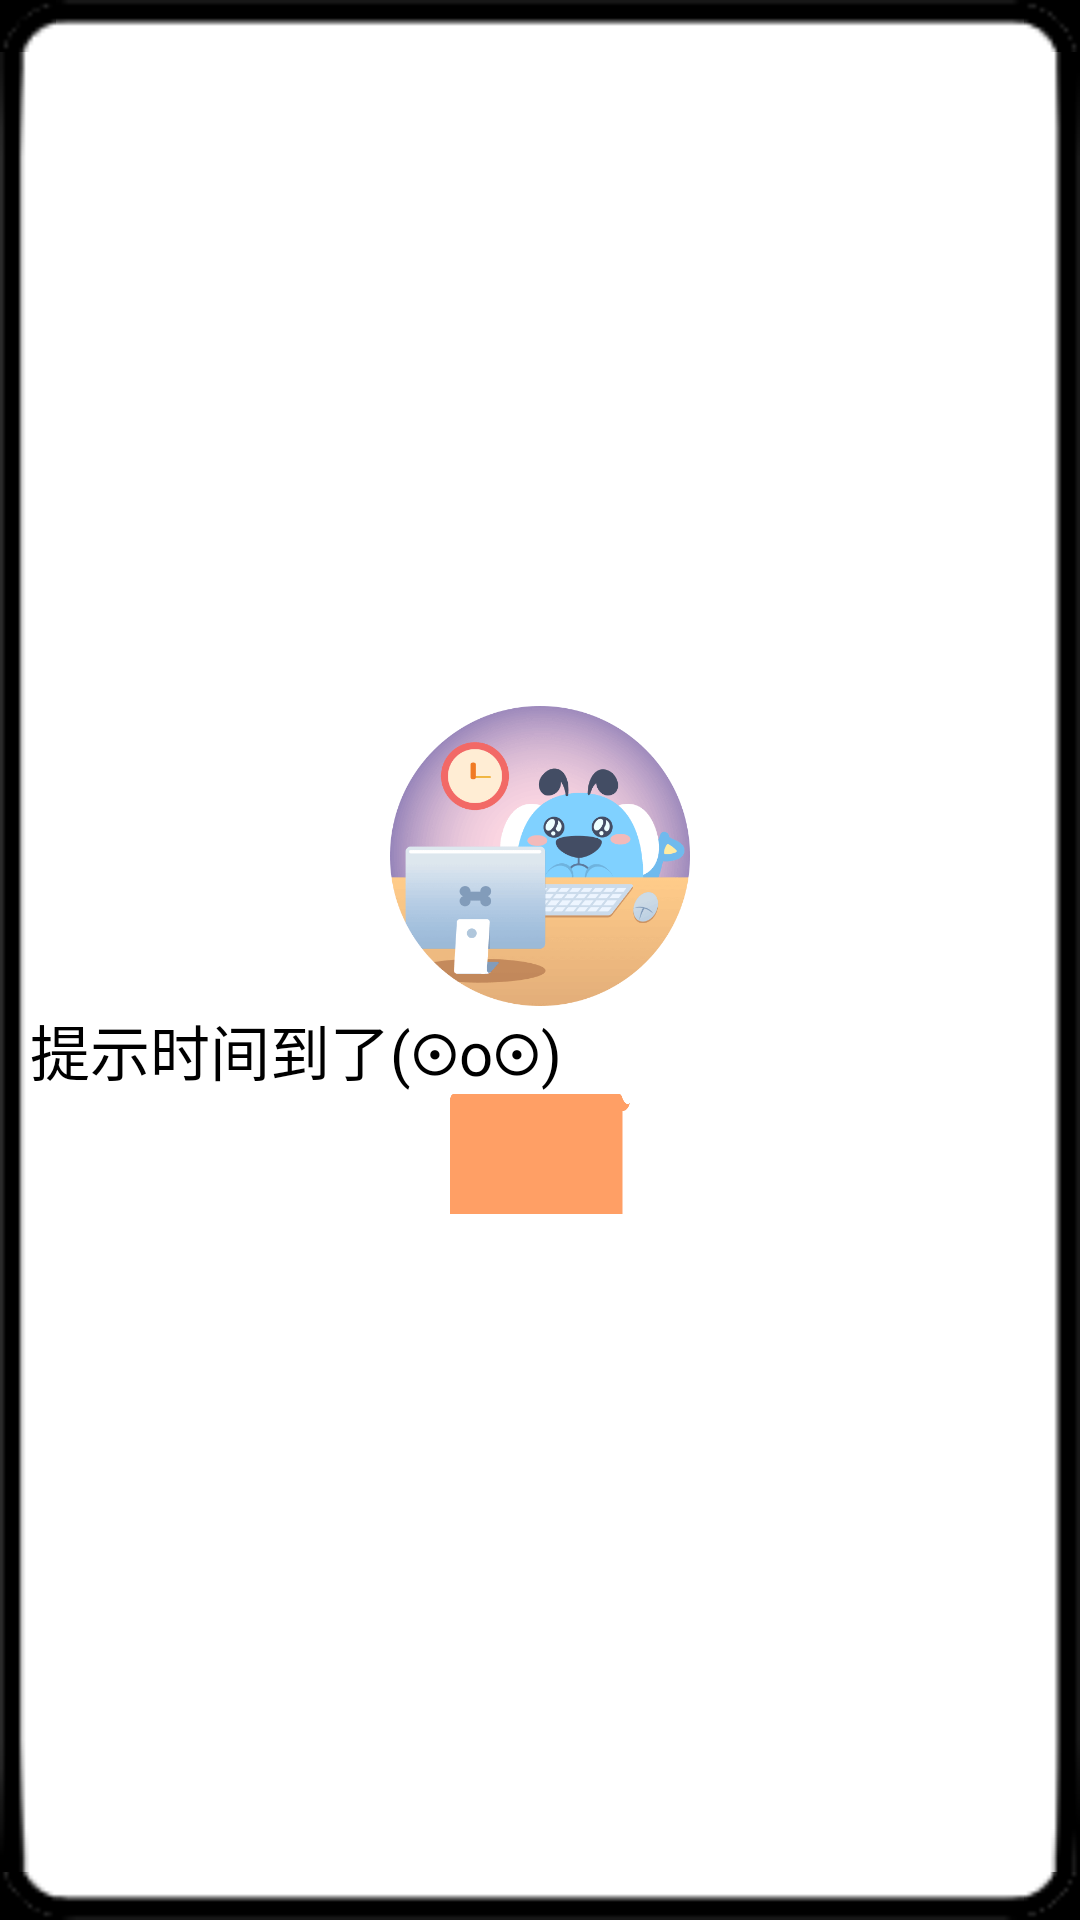

Screen size 1080px×1920px. Icon name, then its box in pixels as detection(x1, y1, x2, y2):
sleep dialod: detection(390, 706, 690, 1006)
